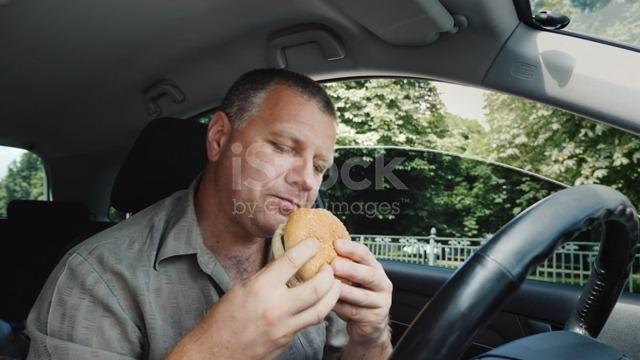Eating: (192, 54, 399, 317)
